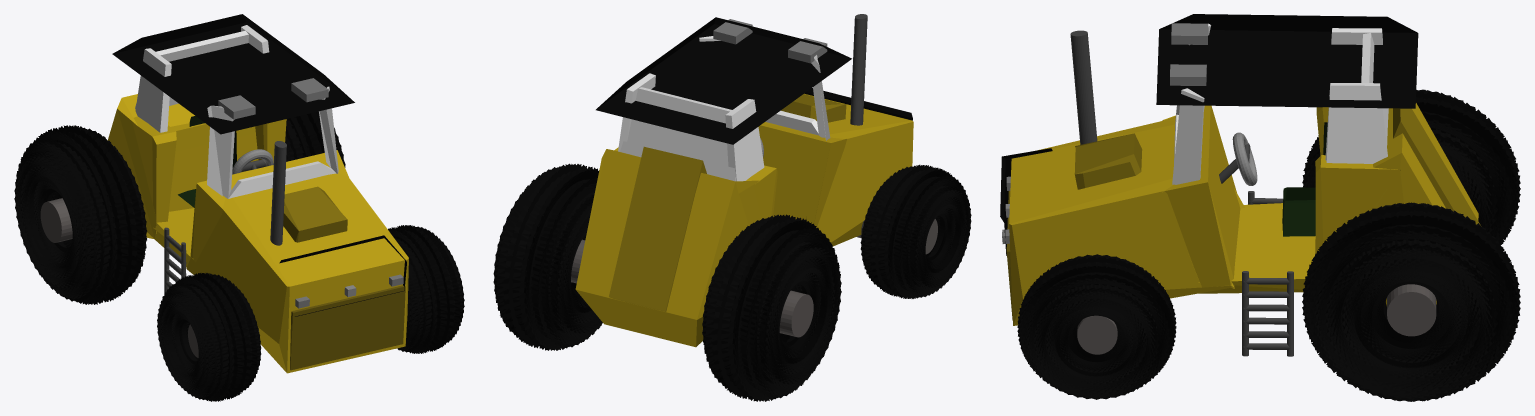
The model's file is trator.fbx.
3 views of the same model, side by side, from view 1: azimuth 30°, elevation 25°; view 2: azimuth 150°, elevation 25°; view 3: azimuth 270°, elevation 25° (orthographic). The views are drawn at different scales.
Visible parts, largest first — view 1: corpo_trator, rodaTL, roda_FL, roda_FR, roda_TR, volante; view 2: corpo_trator, rodaTL, roda_TR, roda_FL; view 3: corpo_trator, roda_TR, roda_FR, rodaTL, volante.
Boxes of the visible parts, x1,y1,x2,y2 form: corpo_trator: [40, 14, 408, 373]; rodaTL: [14, 125, 147, 304]; roda_FL: [157, 273, 261, 401]; roda_FR: [388, 225, 464, 353]; roda_TR: [285, 111, 345, 167]; volante: [232, 149, 273, 174]; corpo_trator: [571, 14, 937, 347]; rodaTL: [702, 214, 841, 401]; roda_TR: [493, 163, 602, 350]; roda_FL: [860, 164, 971, 298]; corpo_trator: [1000, 14, 1481, 356]; roda_TR: [1302, 202, 1520, 401]; roda_FR: [1017, 254, 1176, 399]; rodaTL: [1302, 89, 1520, 244]; volante: [1219, 132, 1257, 185].
Bounding box in the file's own units: 1440 × 1332 × 2116.
